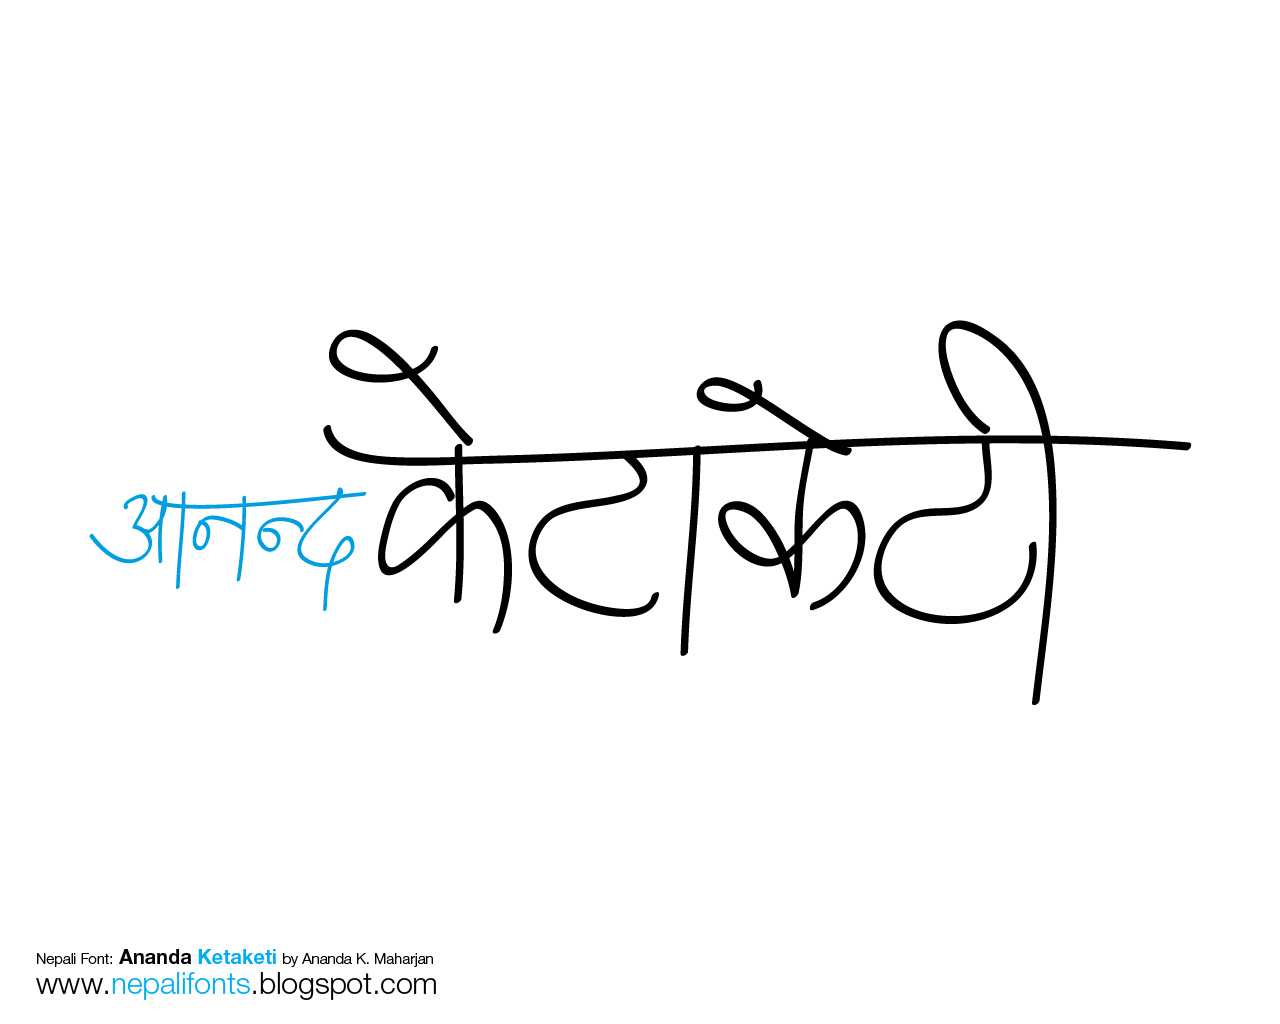text: (328, 315, 1196, 709), (85, 479, 372, 619)
